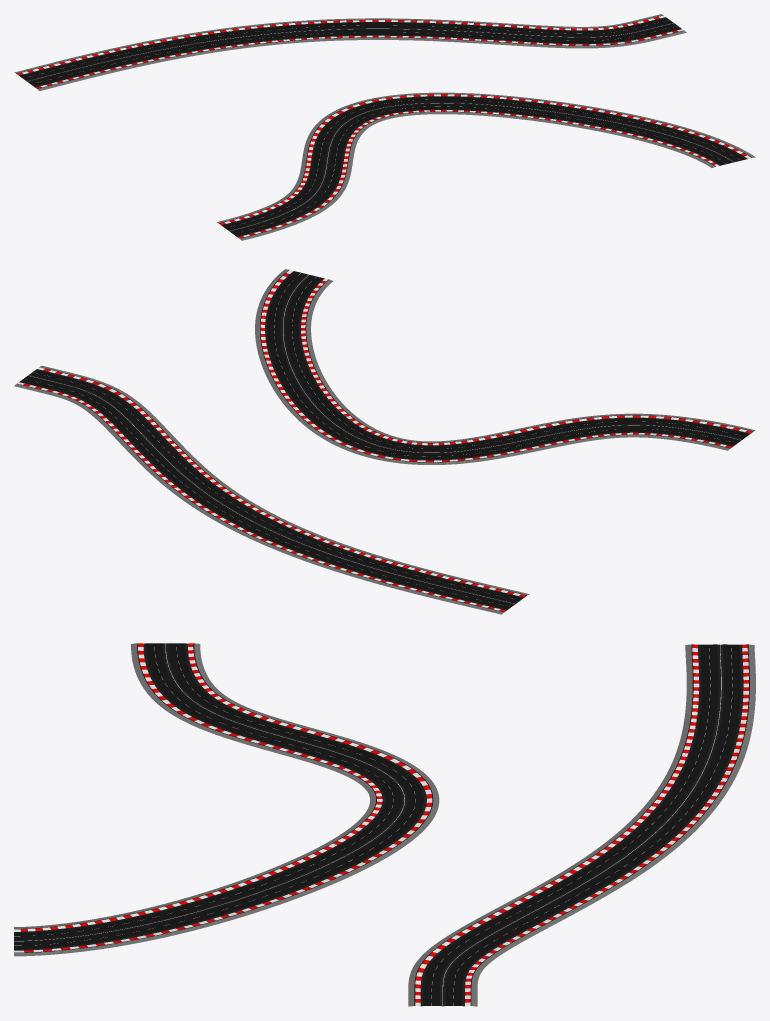
The model's file is S0.2c1-3r3-triway.glb.
3 renders of one model, top to bottom at view 1: azimuth 30°, elevation 25°; view 2: azimuth 150°, elevation 25°; view 3: azimuth 270°, elevation 25°, orthographic. The views are drawn at different scales.
Parts seen in each view (by area): view 1: Grid, Grid.002; view 2: Grid, Grid.002; view 3: Grid, Grid.002.
Boxes of the visible parts, x1=… form: Grid: x1=217, y1=92, x2=755, y2=240; Grid.002: x1=14, y1=14, x2=686, y2=90; Grid: x1=255, y1=269, x2=755, y2=464; Grid.002: x1=14, y1=365, x2=529, y2=614; Grid: x1=14, y1=643, x2=439, y2=956; Grid.002: x1=408, y1=644, x2=755, y2=1006.
Bounding box in the file's own units: 310 × 0.31 × 268.
